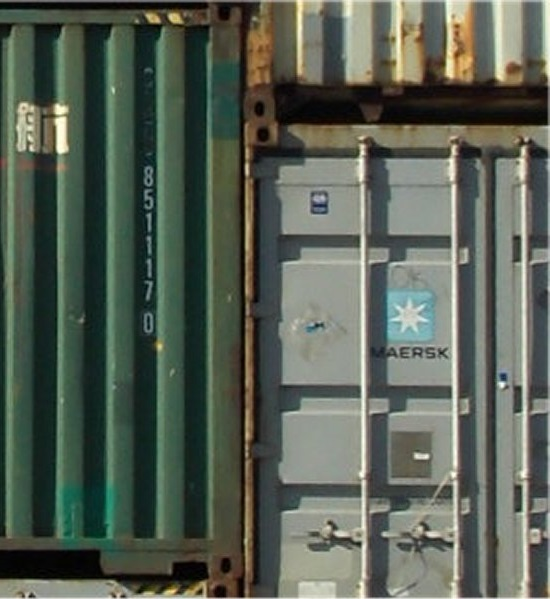container_door: (247, 119, 547, 598)
container_no_door: (1, 5, 239, 575)
